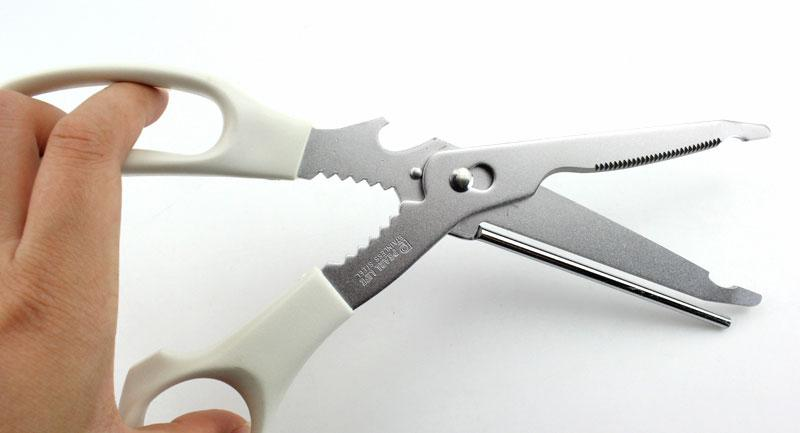scissor: (38, 17, 751, 433)
